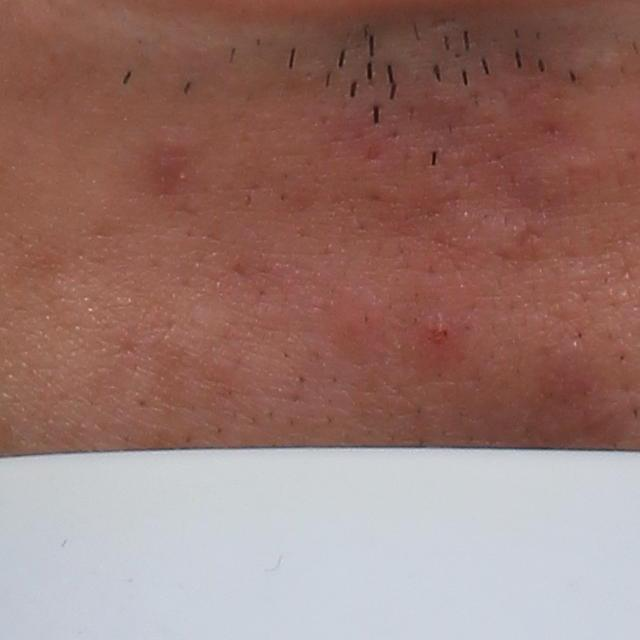hypertrophic_scar: (428, 200, 554, 267), (511, 149, 618, 208)
papule: (415, 302, 464, 361)
